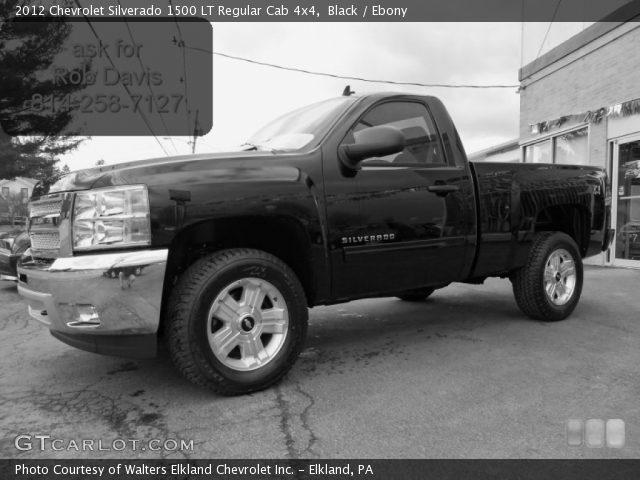car: (17, 87, 615, 397)
